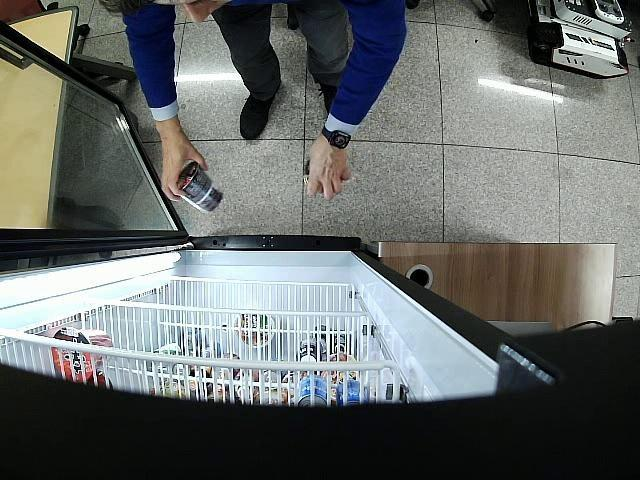08_buldak_S: (178, 162, 224, 212)
